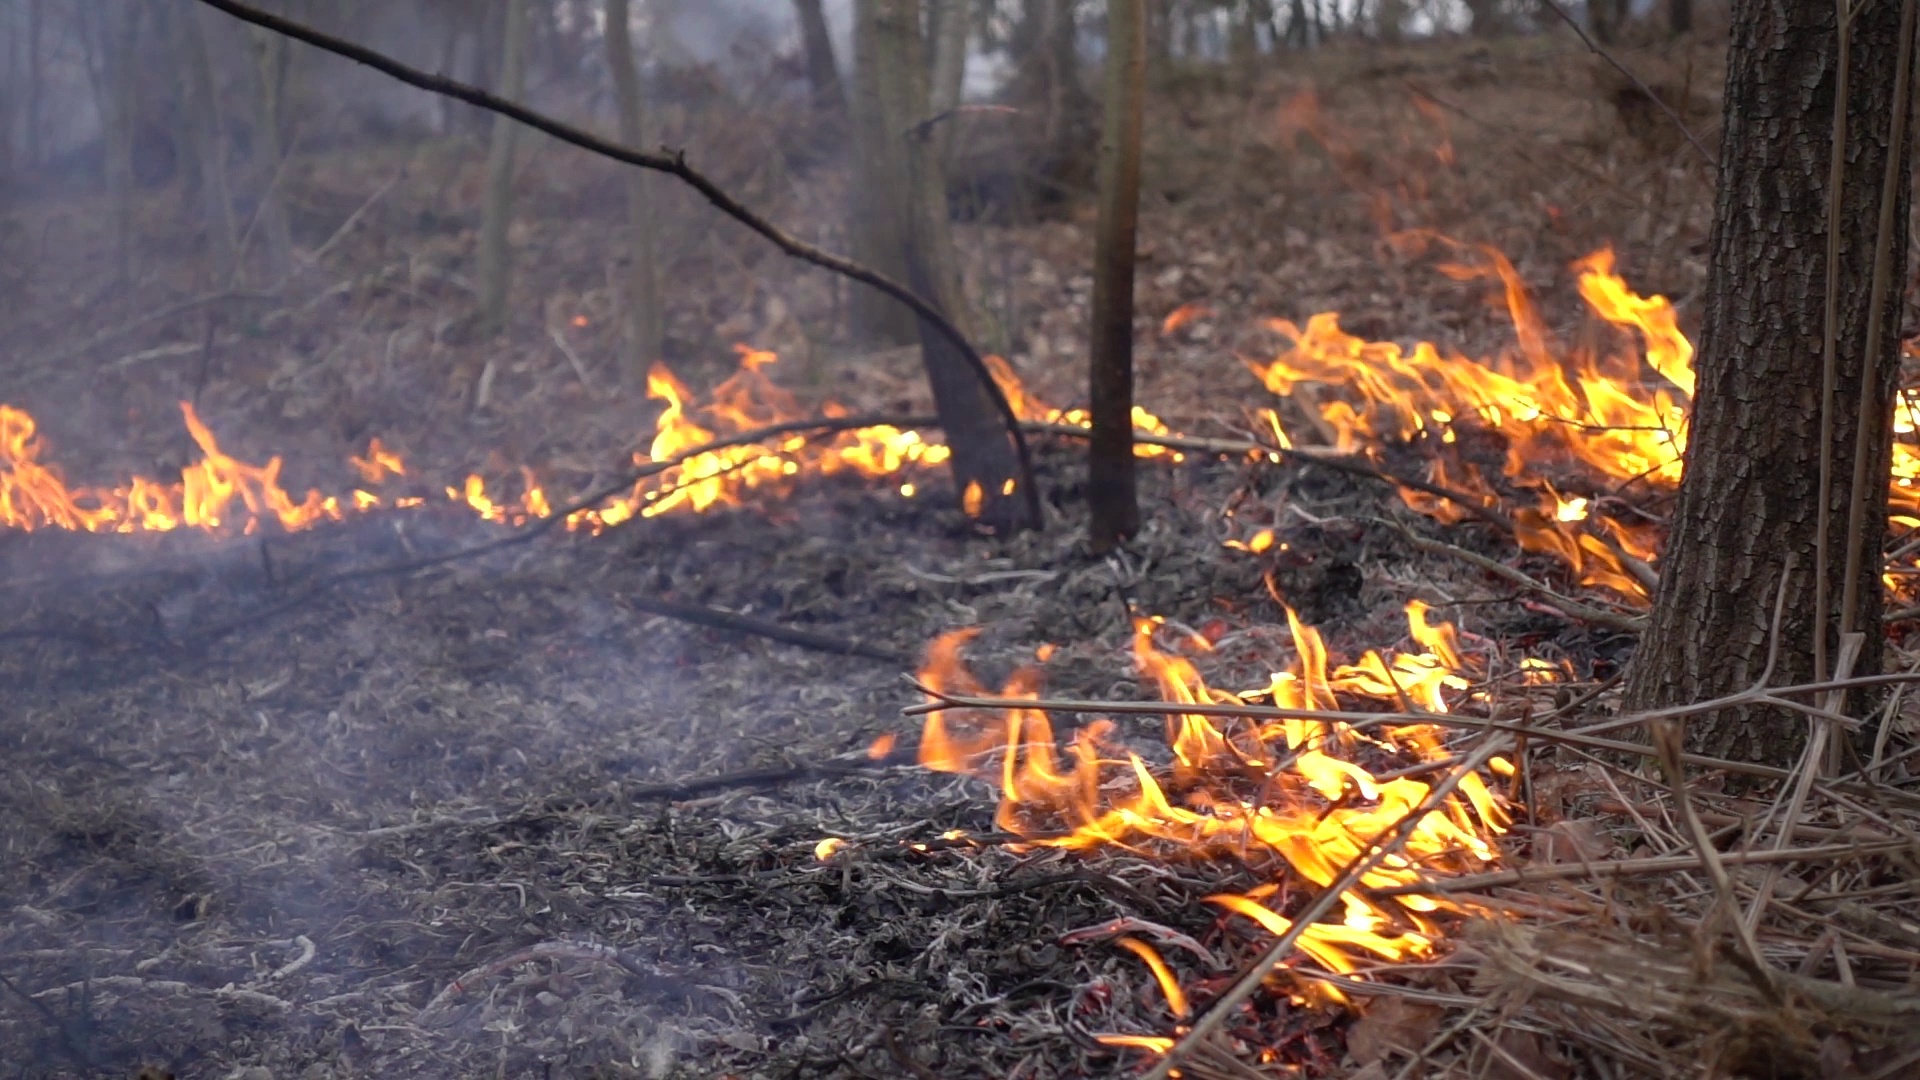fire: (928, 607, 1493, 953), (1255, 256, 1691, 584), (3, 388, 407, 529), (596, 368, 944, 524), (462, 463, 551, 531), (1887, 386, 1920, 504), (1127, 400, 1171, 463)
